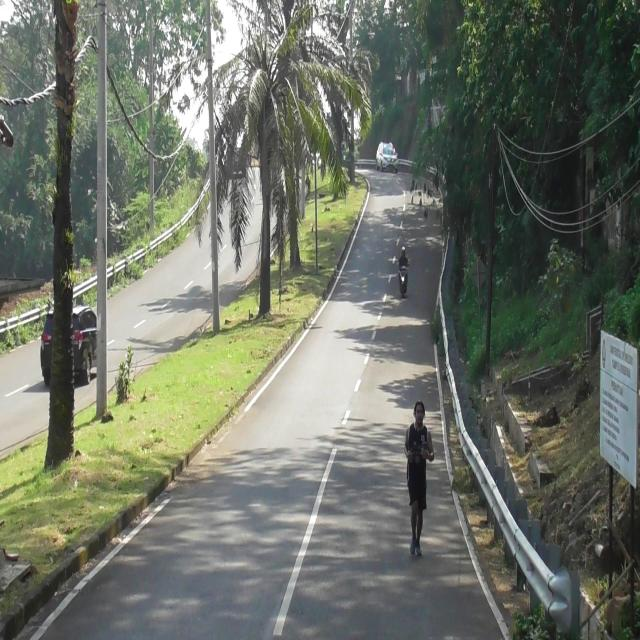motorcycle: (398, 265, 408, 297)
person: (398, 246, 408, 268)
rider_region: (398, 241, 409, 293)
